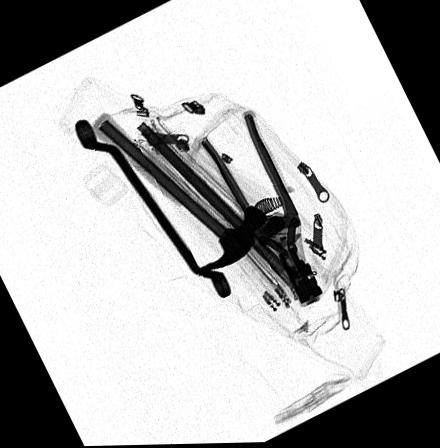Hammer: (86, 111, 267, 278)
Pliers: (197, 113, 323, 310)
Wrench: (70, 118, 234, 300)
